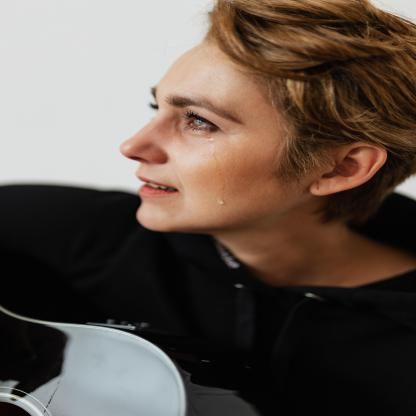Eye: (181, 113, 224, 137)
Mouth: (136, 173, 180, 198)
Nose: (119, 115, 171, 164)
